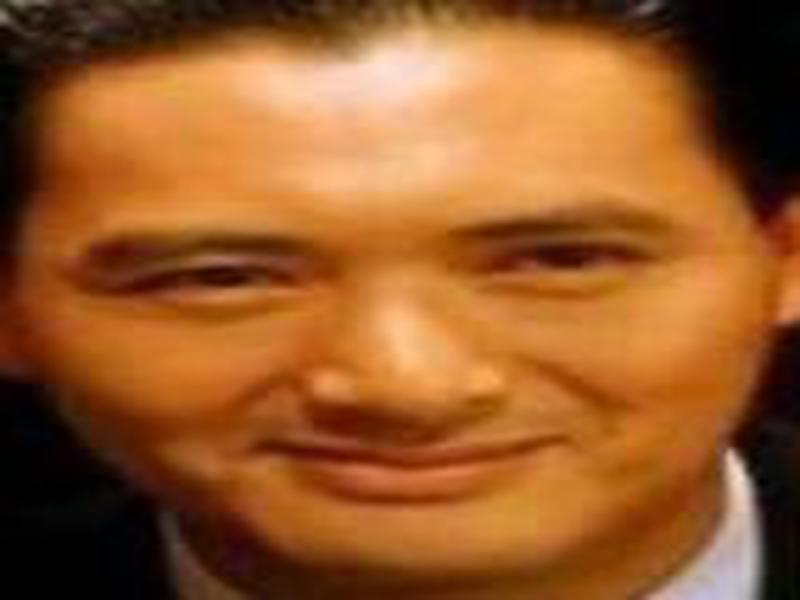without_mask: (51, 65, 733, 576)
